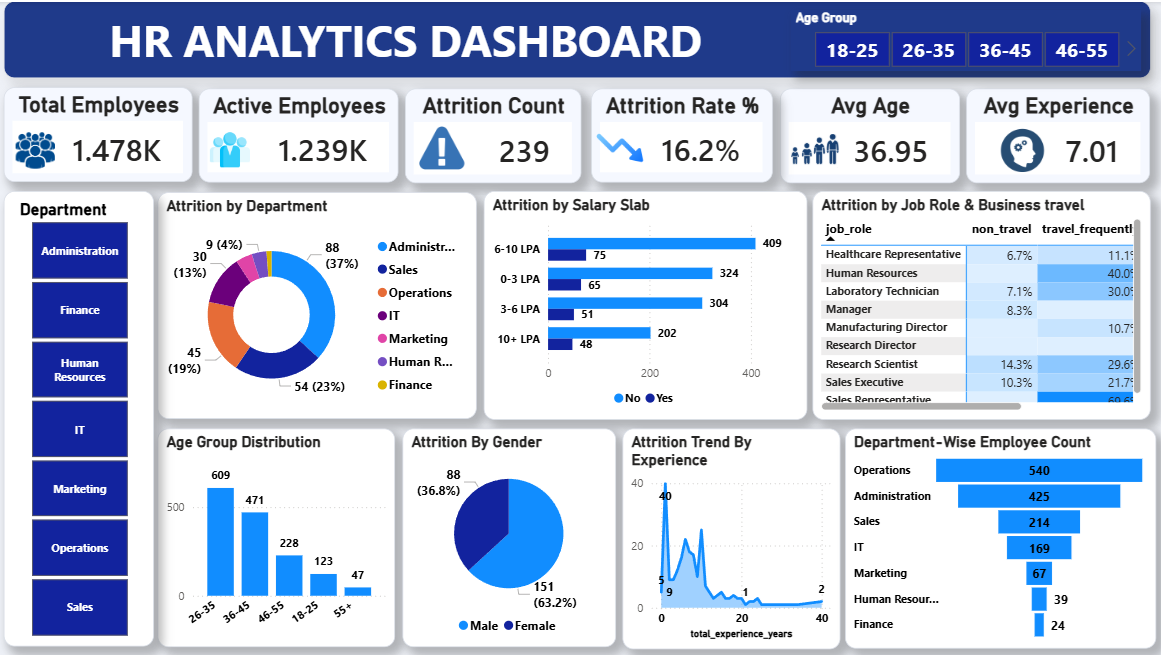

The dashboard page shown, as its layout file describes it:
{"tool":"powerbi","page":{"name":"Page 1","canvas":[1280,720],"ordinal":0},"visuals":[{"type":"textbox","box":[10,0,1259,85],"z":0},{"type":"cardVisual","title":"Total Employees","fields":{"Data":["CountNonNull(HR_Analytics.emp_id)"]},"box":[9.6,94.7,203.1,104.3],"z":1000},{"type":"cardVisual","title":"Active Employees","fields":{"Data":["CountNonNull(HR_Analytics.employee_count)"]},"box":[223.7,96.1,215.4,102.9],"z":2000},{"type":"cardVisual","title":"Avg Age","fields":{"Data":["Avg(HR_Analytics.age)"]},"box":[861.8,96.1,194.9,104.3],"z":3000},{"type":"cardVisual","title":"Attrition Count","fields":{"Data":["HR_Analytics.Attrition_num"]},"box":[450.1,96.1,189.4,104.3],"z":4000},{"type":"cardVisual","title":"Avg Experience","fields":{"Data":["Avg(HR_Analytics.years_at_company)"]},"box":[1066.2,96.1,201.7,104.3],"z":5000},{"type":"cardVisual","title":"Attrition Rate %","fields":{"Data":["HR_Analytics.Attrition rate %"]},"box":[654.5,96.1,197.6,102.9],"z":6000},{"type":"image","box":[17.8,144.1,52.1,39.8],"z":7000},{"type":"image","box":[231.9,138.6,52.1,43.9],"z":8000},{"type":"image","box":[456.9,131.7,67.2,59],"z":9000},{"type":"image","box":[655.9,134.5,60.4,53.5],"z":10000},{"type":"image","box":[874.1,141.3,52.1,46.7],"z":11000},{"type":"image","box":[1096.4,129,63.1,70],"z":12000},{"type":"donutChart","title":"Attrition by Department","fields":{"Category":["HR_Analytics.department"],"Y":["HR_Analytics.Attrition_num"]},"box":[179,210,350,249],"z":13000},{"type":"clusteredBarChart","title":"Attrition by Salary Slab","fields":{"Category":["HR_Analytics.salary_slab"],"Y":["CountNonNull(HR_Analytics.emp_id)"],"Series":["HR_Analytics.attrition"]},"box":[537,209,355,251.1],"z":14000},{"type":"pivotTable","title":"Attrition by Job Role & Business travel","fields":{"Rows":["HR_Analytics.job_role"],"Values":["HR_Analytics.Attrition rate %"],"Columns":["HR_Analytics.business_travel"]},"box":[898,209,371,251.1],"z":15000},{"type":"columnChart","title":"Age Group Distribution","fields":{"Category":["HR_Analytics.age_group"],"Y":["Sum(HR_Analytics.employee_count)"]},"box":[179,469.3,261,240],"z":16000},{"type":"pieChart","title":"Attrition By Gender","fields":{"Category":["HR_Analytics.gender"],"Y":["HR_Analytics.Attrition_num"]},"box":[448,469,234,240],"z":17000},{"type":"areaChart","title":"Attrition Trend By Experience","fields":{"Category":["HR_Analytics.total_experience_years"],"Y":["HR_Analytics.Attrition_num"]},"box":[689,469,239,242],"z":18000},{"type":"funnel","title":"Department-Wise Employee Count","fields":{"Category":["HR_Analytics.department"],"Y":["CountNonNull(HR_Analytics.emp_id)"]},"box":[933.1,469.3,341.7,241.5],"z":19000},{"type":"slicer","fields":{"Values":["HR_Analytics.department"]},"box":[9.6,208.6,168.8,500.9],"z":20000},{"type":"slicer","title":"Age Group","fields":{"Values":["HR_Analytics.age_group"]},"box":[874.1,9.6,384.2,67.2],"z":21000}]}

Visuals, with their boxes in screenshot pixels (x1, y1, x2, y2), scaled from the page's 1280x720 canvas onto the 1161x655 screenshot:
textbox: x1=9 y1=0 x2=1151 y2=77
"Total Employees" cardVisual: x1=9 y1=86 x2=193 y2=181
"Active Employees" cardVisual: x1=203 y1=87 x2=398 y2=181
"Avg Age" cardVisual: x1=782 y1=87 x2=958 y2=182
"Attrition Count" cardVisual: x1=408 y1=87 x2=580 y2=182
"Avg Experience" cardVisual: x1=967 y1=87 x2=1150 y2=182
"Attrition Rate %" cardVisual: x1=594 y1=87 x2=773 y2=181
image: x1=16 y1=131 x2=63 y2=167
image: x1=210 y1=126 x2=258 y2=166
image: x1=414 y1=120 x2=475 y2=173
image: x1=595 y1=122 x2=650 y2=171
image: x1=793 y1=129 x2=840 y2=171
image: x1=994 y1=117 x2=1052 y2=181
"Attrition by Department" donutChart: x1=162 y1=191 x2=480 y2=418
"Attrition by Salary Slab" clusteredBarChart: x1=487 y1=190 x2=809 y2=419
"Attrition by Job Role & Business travel" pivotTable: x1=815 y1=190 x2=1151 y2=419
"Age Group Distribution" columnChart: x1=162 y1=427 x2=399 y2=645
"Attrition By Gender" pieChart: x1=406 y1=427 x2=619 y2=645
"Attrition Trend By Experience" areaChart: x1=625 y1=427 x2=842 y2=647
"Department-Wise Employee Count" funnel: x1=846 y1=427 x2=1156 y2=647
slicer - HR_Analytics.department: x1=9 y1=190 x2=162 y2=645
"Age Group" slicer: x1=793 y1=9 x2=1141 y2=70
